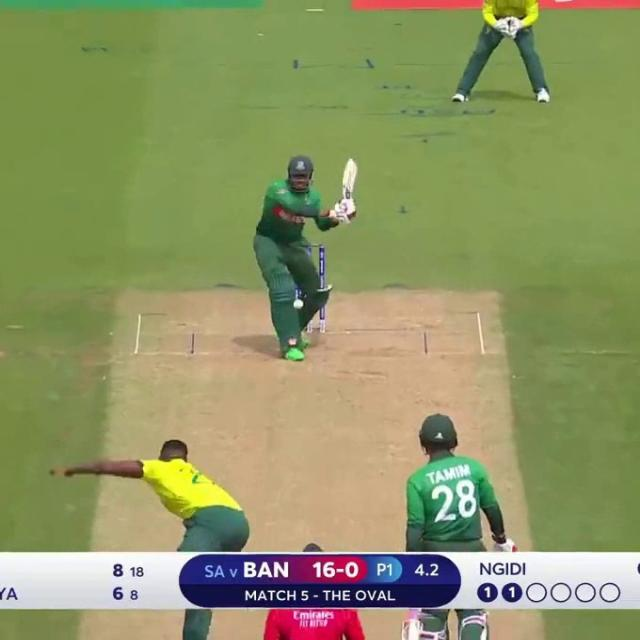bat: (339, 158, 363, 200), (400, 618, 422, 640)
